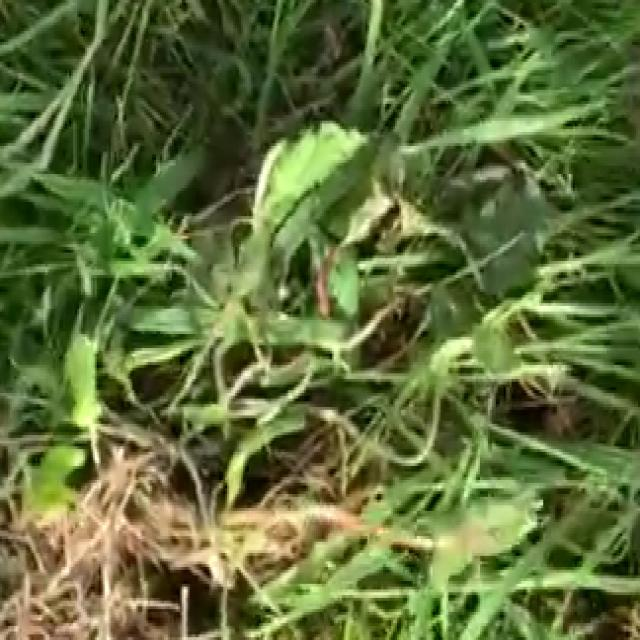organic waste: (152, 56, 585, 469)
